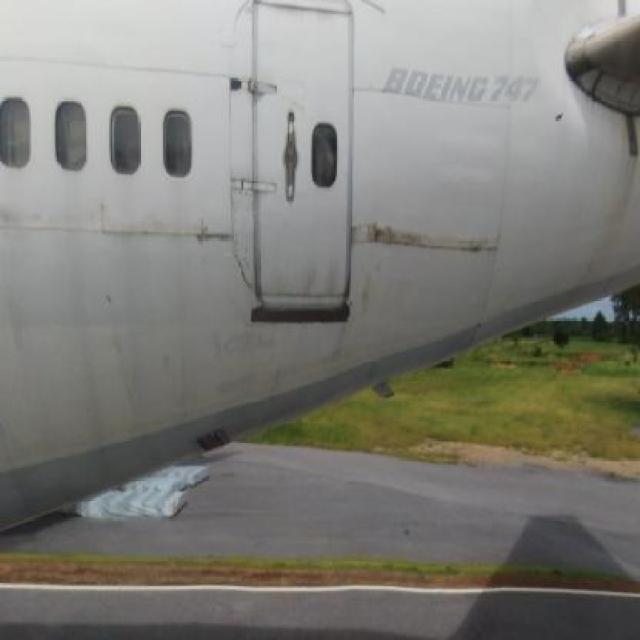Missing-Rivet: (592, 62, 639, 132)
Rust: (584, 102, 639, 296), (258, 240, 352, 308), (357, 193, 438, 265), (255, 0, 358, 37), (454, 214, 511, 272), (180, 208, 242, 260)
Scartch: (1, 190, 41, 376), (202, 320, 282, 398), (355, 272, 417, 348)
